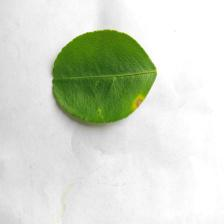greening: (50, 24, 133, 122)
